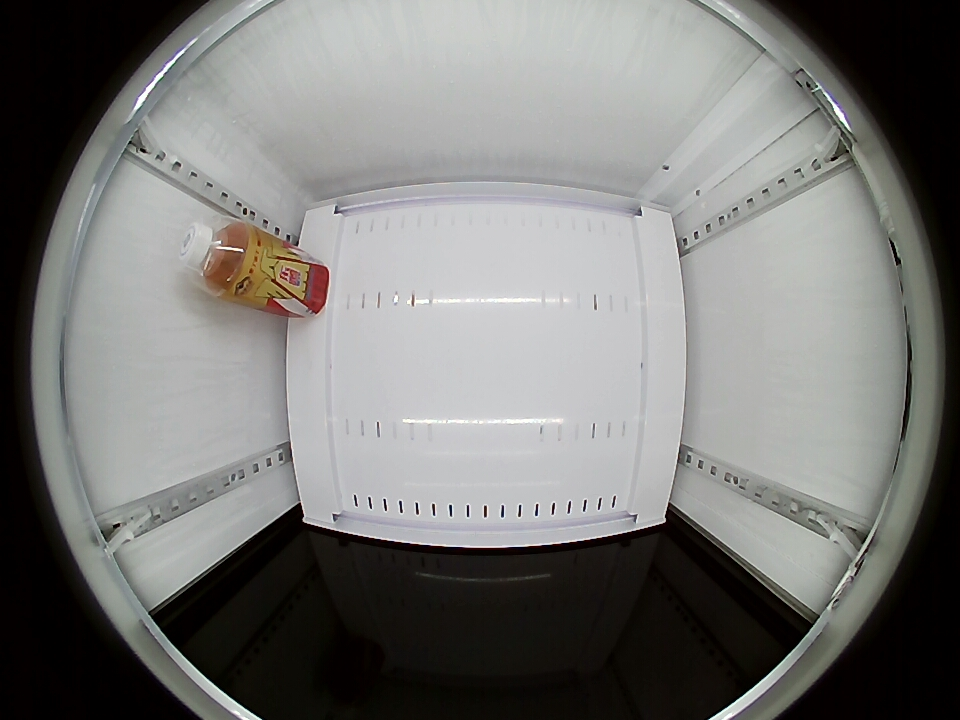dongpeng-b: (177, 220, 257, 297)
